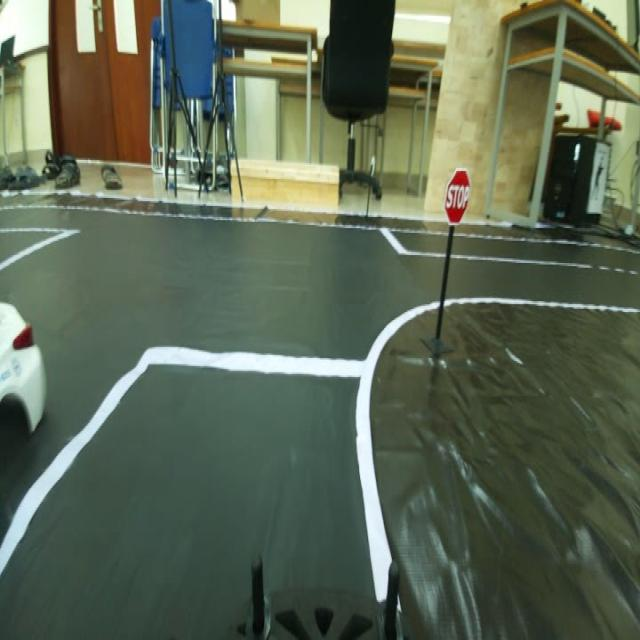stop: (431, 165, 475, 228)
